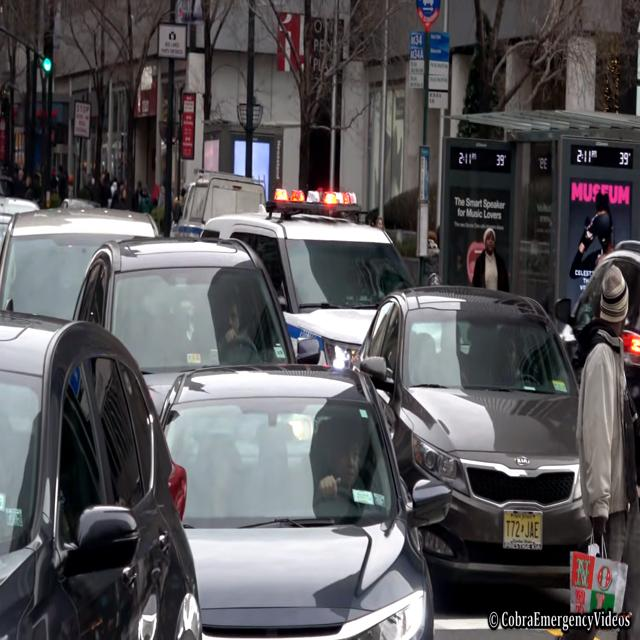emergency-vehicles: (197, 166, 421, 387)
